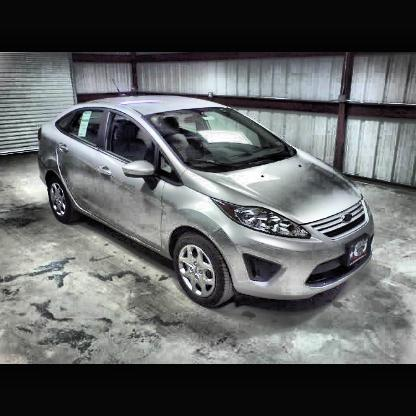Ford Fiesta Sedan 2012: (37, 94, 376, 311)
